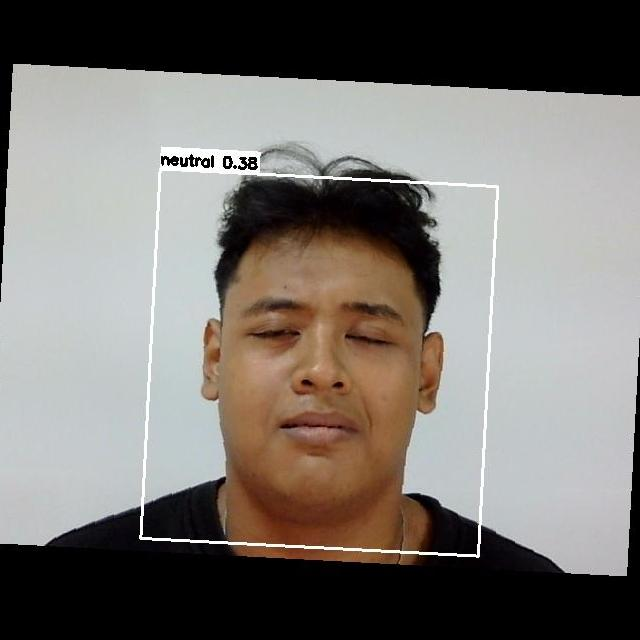Fear: (213, 265, 425, 476)
